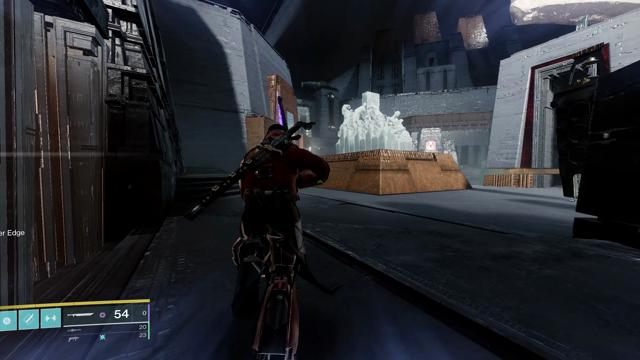give: (427, 142, 435, 149)
